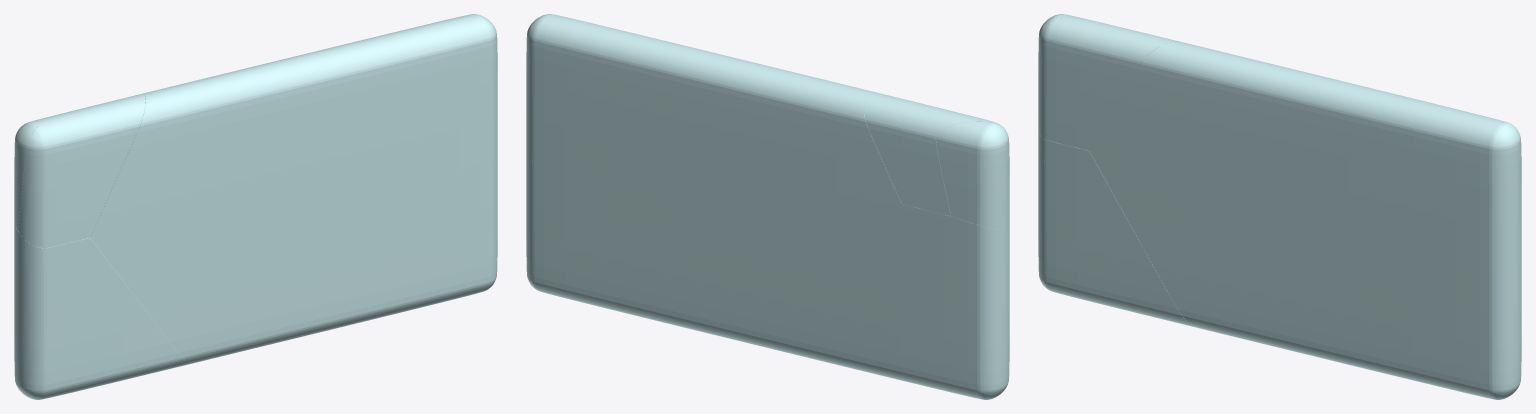
File: shatteredBeg.glb
The picture shows the model from 3 angles, left to right: view 1: azimuth 30°, elevation 25°; view 2: azimuth 150°, elevation 25°; view 3: azimuth 330°, elevation 25°; orthographic projection.
Parts seen in each view (by area): view 1: Cube.001_cell.039; view 2: Cube.001_cell.039; view 3: Cube.001_cell.039.
Boxes of the visible parts, <box> form: Cube.001_cell.039: <box>14,14,497,399</box>; Cube.001_cell.039: <box>526,14,1009,399</box>; Cube.001_cell.039: <box>1038,14,1521,399</box>.
Bounding box in the file's own units: 10.52 × 5.81 × 0.968.
